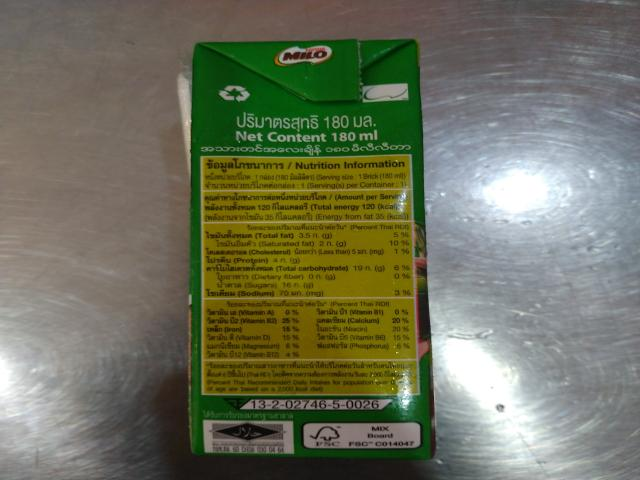drink_box: (149, 29, 496, 480)
